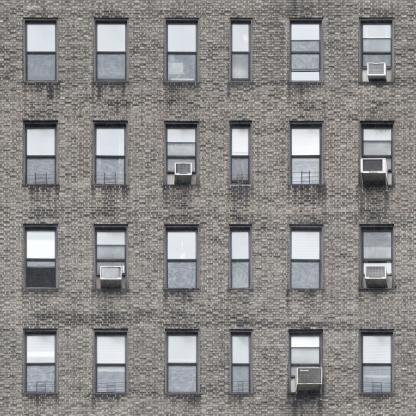Building Outline: (0, 1, 411, 416)
Facade: (0, 0, 411, 416)
Floor: (1, 0, 411, 105), (1, 112, 411, 210), (1, 218, 411, 315), (1, 322, 411, 409)
Floor Slab: (1, 409, 411, 416), (1, 105, 411, 112), (1, 211, 411, 218), (1, 315, 411, 322)
Window: (165, 331, 197, 393), (25, 20, 57, 82), (95, 20, 127, 82), (165, 123, 197, 185), (25, 226, 57, 287), (95, 226, 127, 287), (360, 331, 391, 393), (25, 331, 56, 393), (95, 331, 126, 393), (290, 331, 321, 393), (166, 20, 197, 82), (25, 123, 56, 185), (95, 123, 126, 185), (361, 20, 392, 81), (291, 20, 322, 81), (360, 123, 391, 184), (290, 123, 321, 184), (361, 226, 392, 287), (166, 226, 197, 287), (291, 226, 322, 287), (231, 20, 251, 81), (231, 226, 251, 287), (231, 331, 250, 393), (231, 123, 250, 184)
